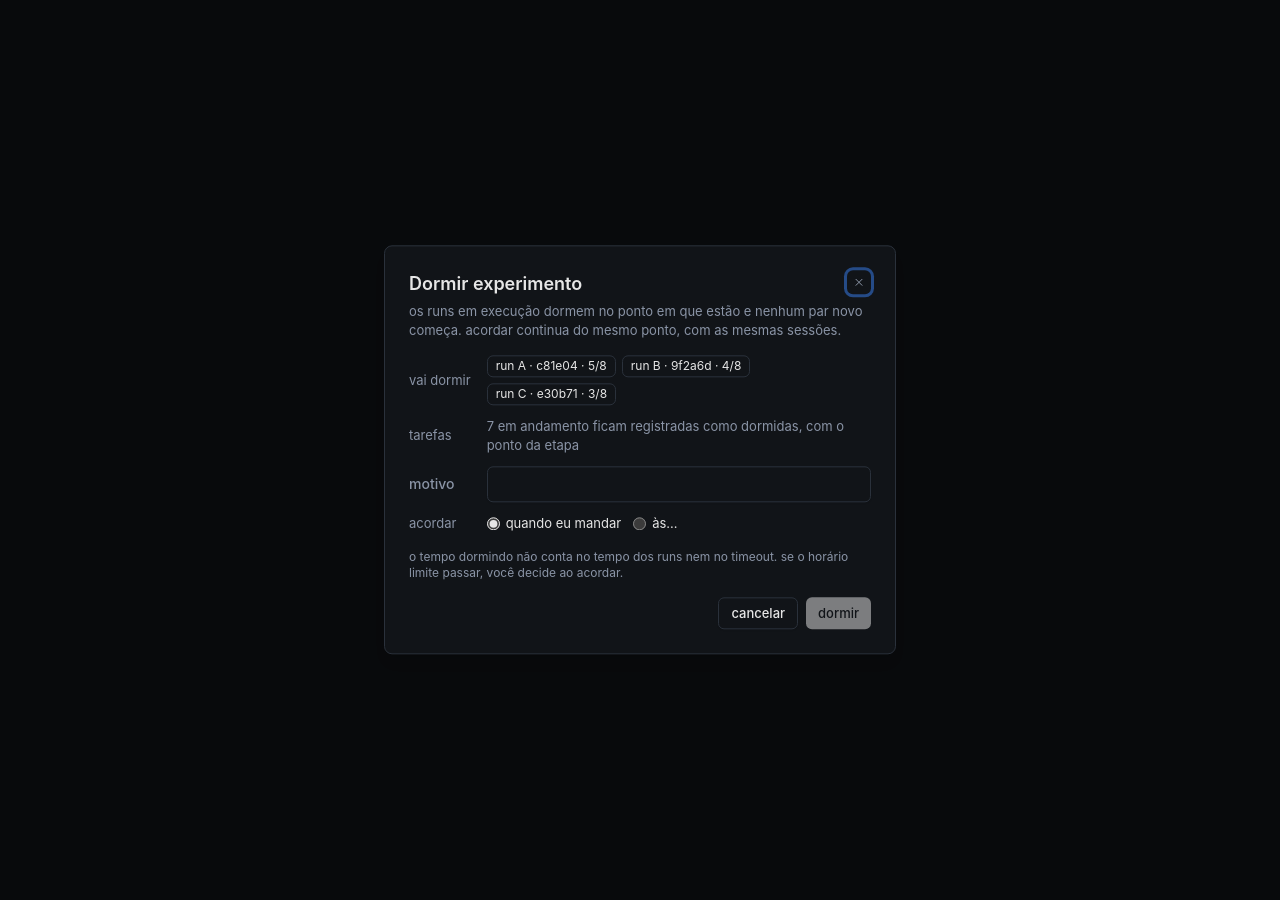
Test case: a refused sleep keeps the dialog open with the shell's copy inline, no toast (#468)
Type "preciso" into the field labelled "motivo" at (679, 485), box [487,467,871,503]
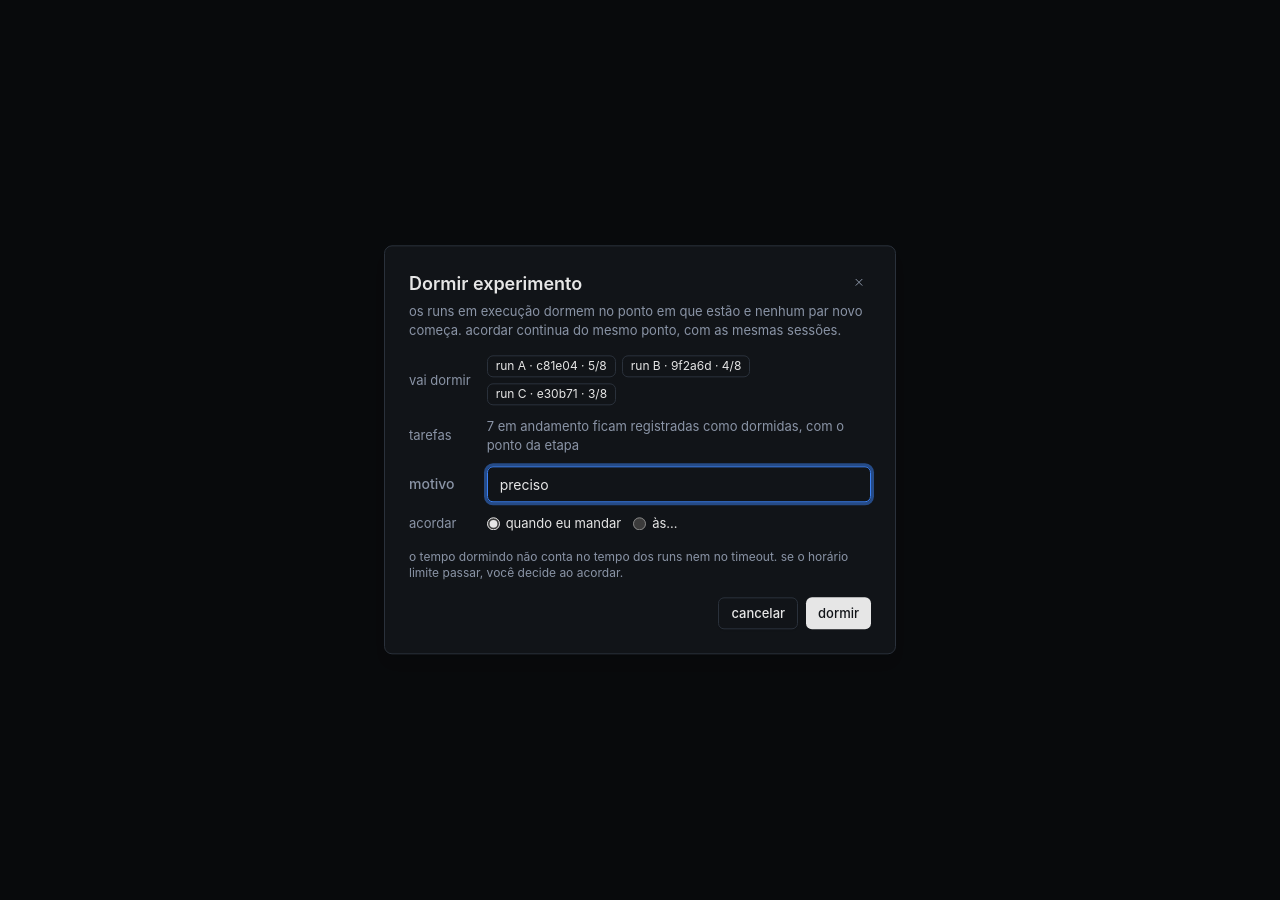
Click the button "dormir" at (839, 613), box [806,597,871,630]
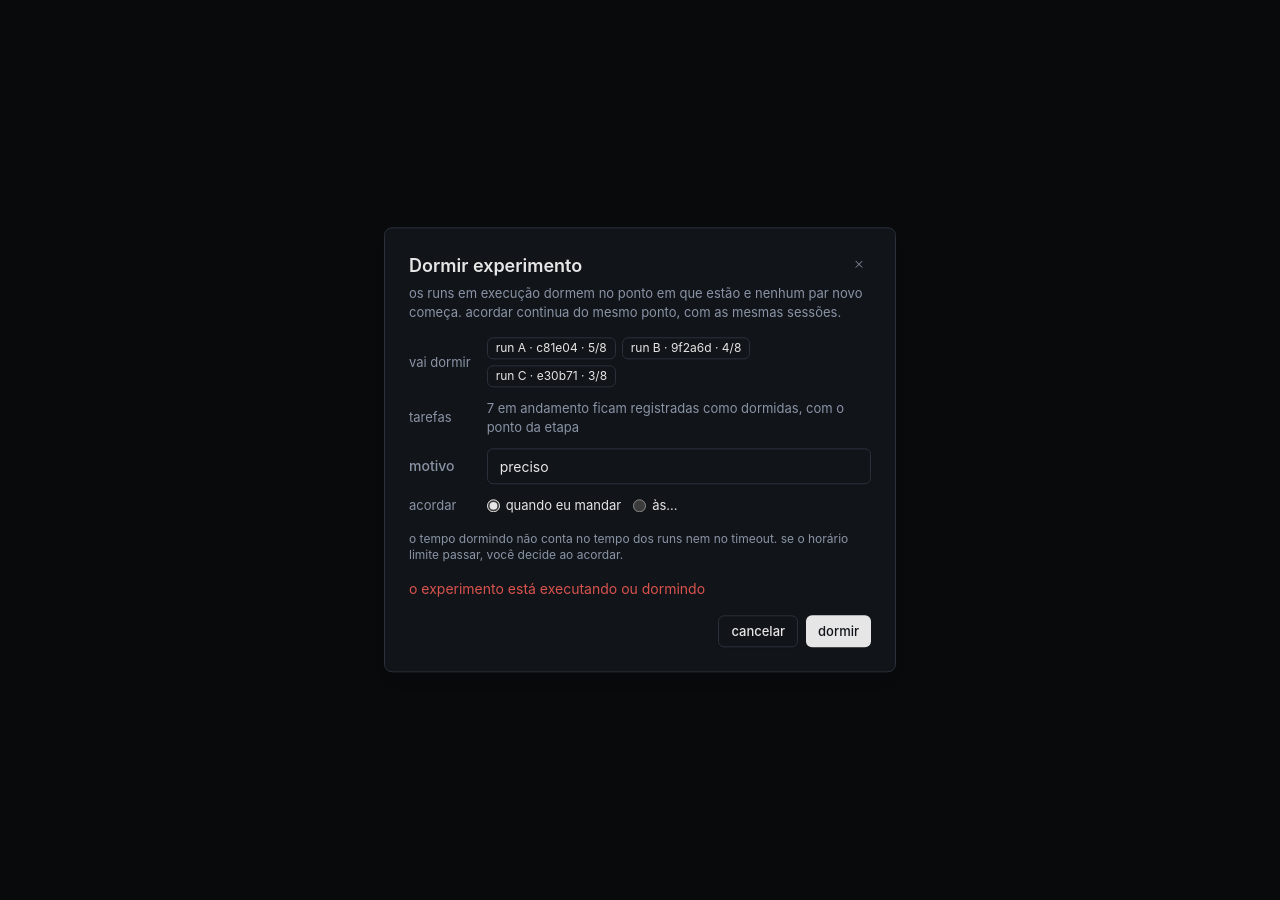
Result: the message reads "o experimento está executando ou dormindo" at [409,580,705,597]
